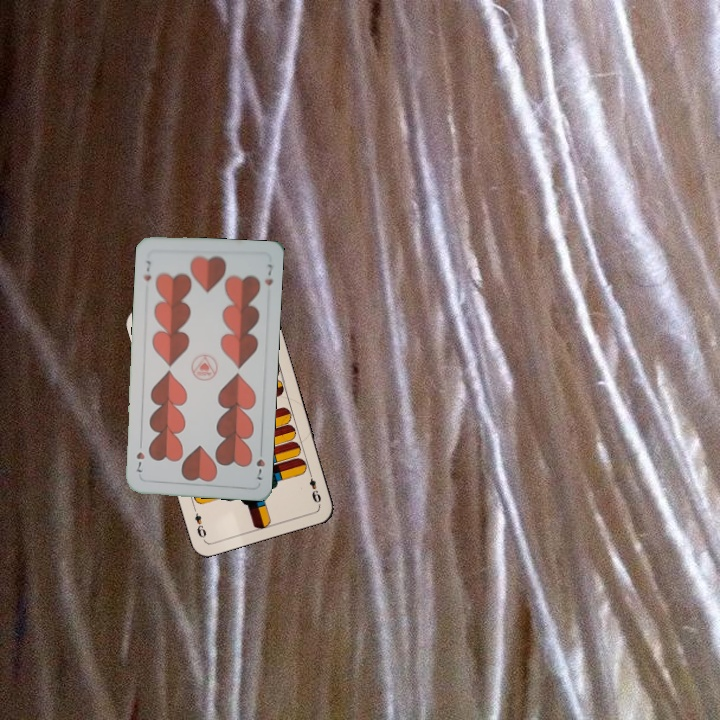E9: (304, 467, 324, 505)
H7: (252, 455, 268, 483), (140, 257, 154, 284)
